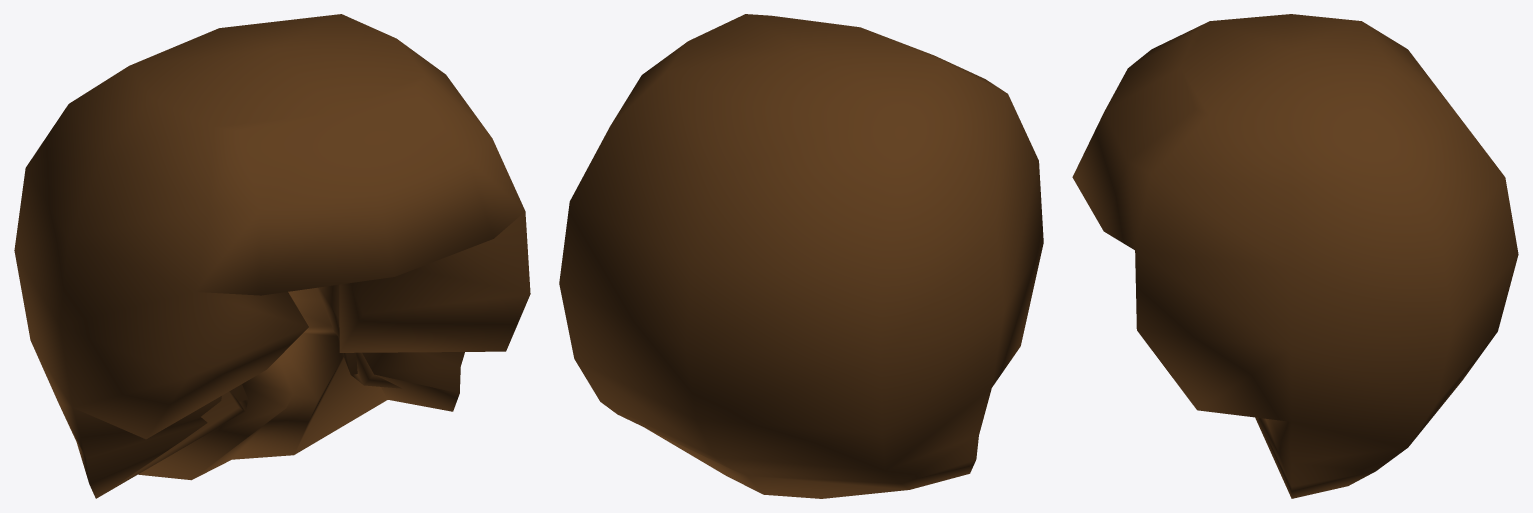
Rendered from hair4.gltf.
3 renders of one model, left to right at view 1: azimuth 30°, elevation 25°; view 2: azimuth 150°, elevation 25°; view 3: azimuth 270°, elevation 25°, orthographic. The views are drawn at different scales.
Parts seen in each view (by area): view 1: hair4; view 2: hair4; view 3: hair4.
Part boxes in pixels (bbox=[...]): hair4: bbox=[14, 14, 530, 498]; hair4: bbox=[559, 14, 1043, 498]; hair4: bbox=[1072, 14, 1518, 498].
Bounding box in the file's own units: 1.15 × 1.13 × 1.14.
